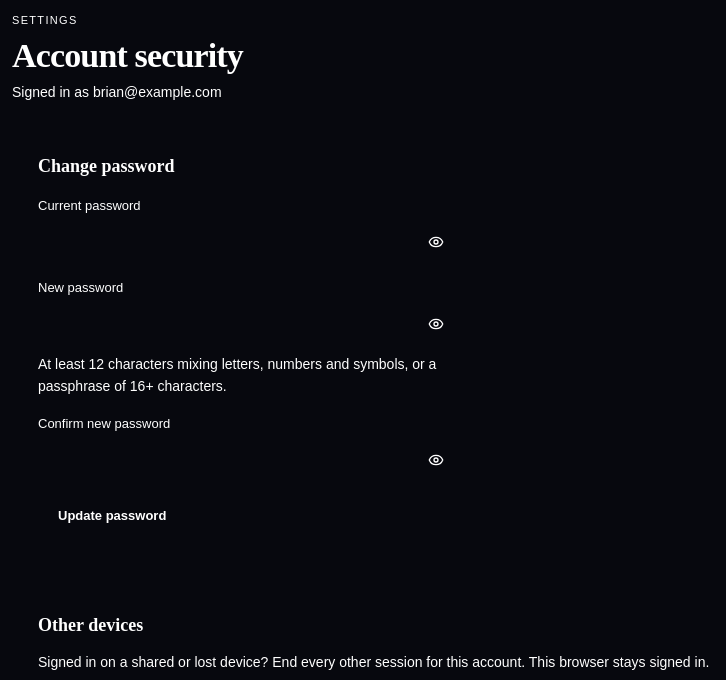
change password › rejects weak passwords before contacting the server
The image size is (726, 680).
Type "old-password" into the password field labelled "Current password" at (248, 242), box [38,222,458,262]
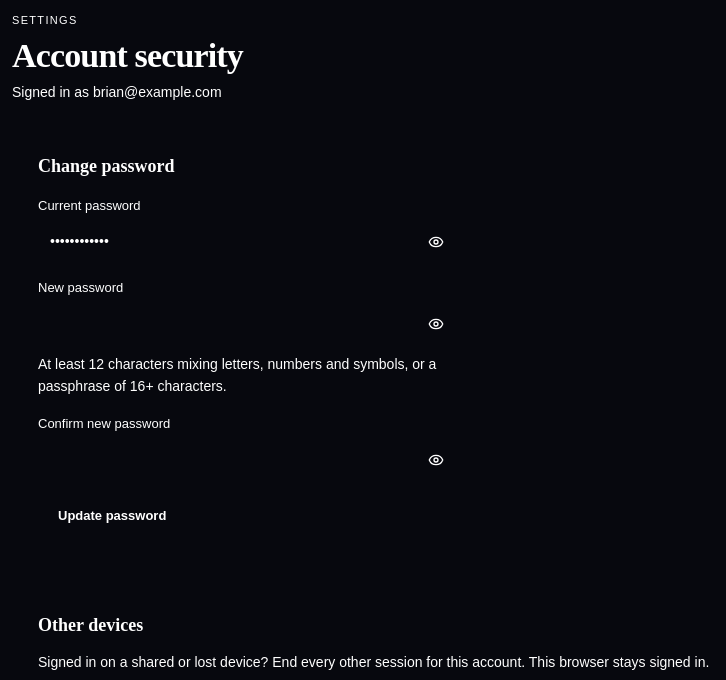
Type "short1" into the password field labelled "New password" at (248, 324), box [38,304,458,345]
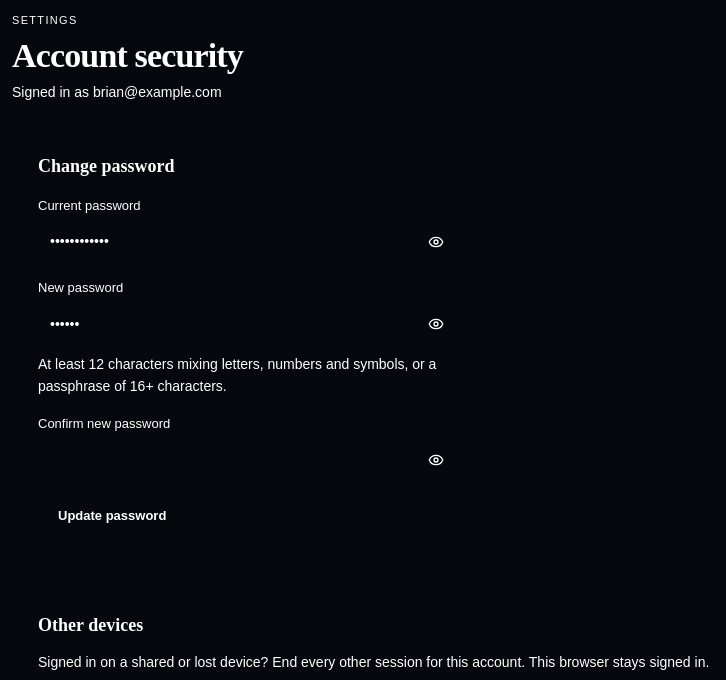
Type "short1" into the password field labelled "Confirm new password" at (248, 460), box [38,439,458,480]
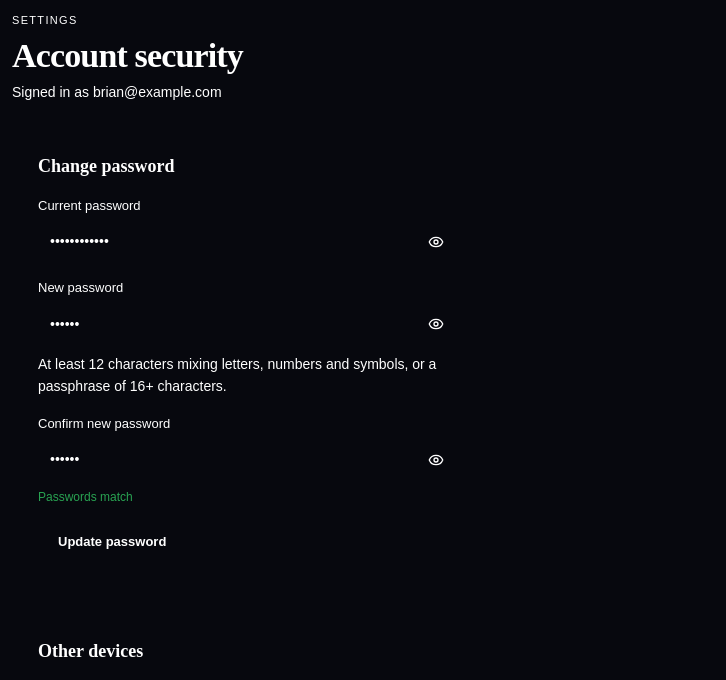
Click the button "Update password" at (112, 542), box [38,522,186,562]
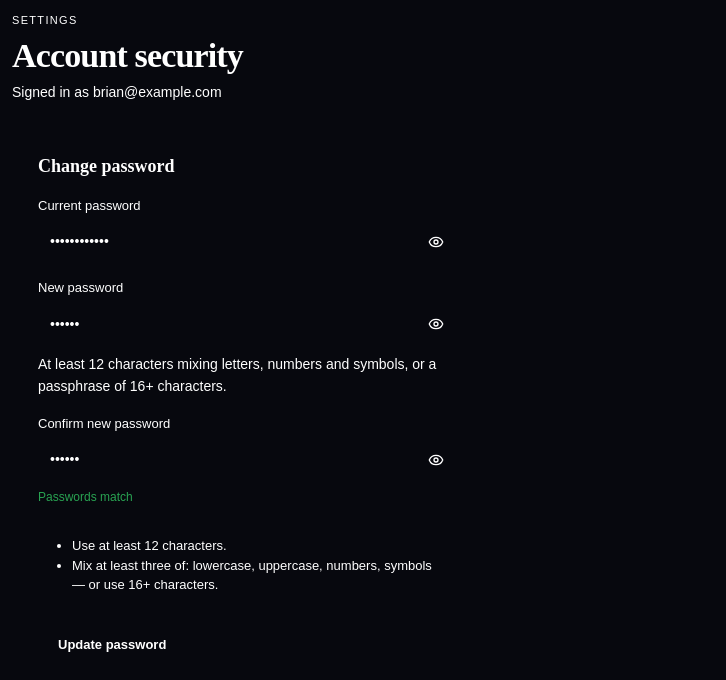
expect the message shows "Use at least 12 characters.": met, box [72,538,227,553]
